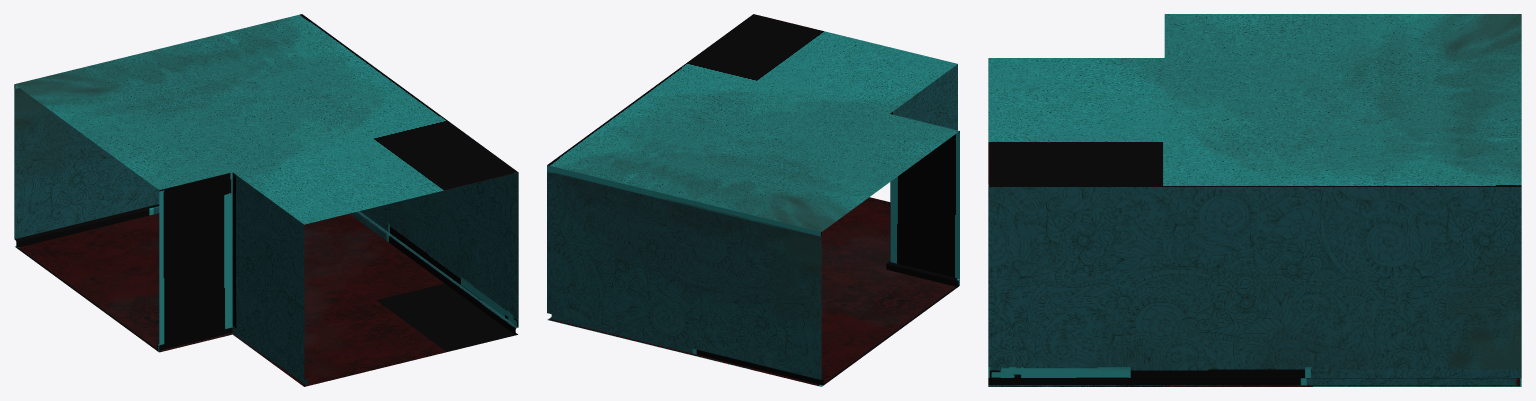
The model's file is koridorSagUstKose.fbx.
3 views of the same model, side by side, from view 1: azimuth 30°, elevation 25°; view 2: azimuth 150°, elevation 25°; view 3: azimuth 270°, elevation 25° (orthographic). The views are drawn at different scales.
Parts seen in each view (by area): view 1: sagKoridorUstKose; view 2: sagKoridorUstKose; view 3: sagKoridorUstKose.
Part boxes in pixels (x1,y1,x2,y2): sagKoridorUstKose: (14, 14, 518, 386); sagKoridorUstKose: (547, 14, 959, 386); sagKoridorUstKose: (988, 14, 1521, 386).
Bounding box in the file's own units: 835 × 450 × 1088.
